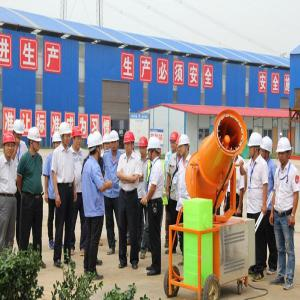red: (123, 130, 137, 156), (3, 134, 17, 159), (72, 125, 84, 152), (139, 135, 150, 157), (170, 132, 180, 152)
white: (247, 132, 263, 160), (146, 136, 162, 163), (277, 138, 292, 166), (28, 128, 43, 155), (88, 134, 103, 160), (260, 136, 274, 162), (178, 134, 192, 159), (60, 121, 72, 147), (13, 119, 25, 142), (110, 129, 121, 152), (53, 133, 63, 150), (103, 133, 111, 151)
